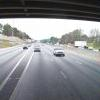Bridge: (3, 2, 95, 30)
